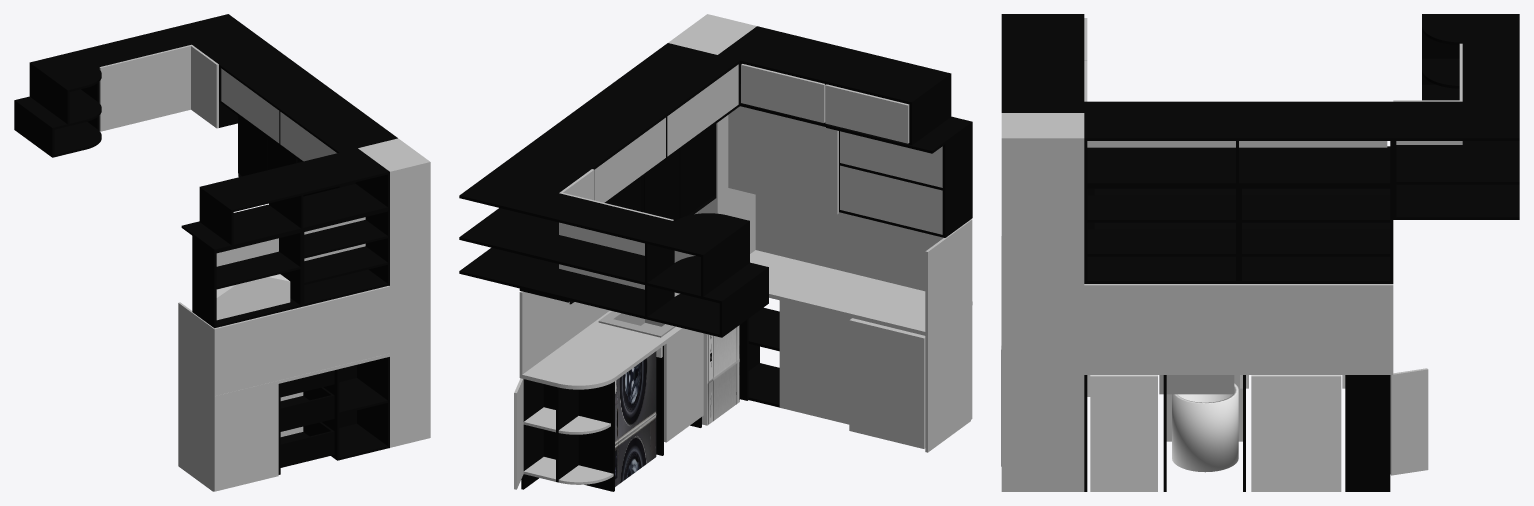
Rendered from proto_kitchen.fbx.
The picture shows the model from 3 angles, left to right: view 1: azimuth 30°, elevation 25°; view 2: azimuth 150°, elevation 25°; view 3: azimuth 270°, elevation 25°; orthographic projection. The views are drawn at different scales.
Visible parts, largest first — view 1: Cube.095, Cube.104, Cube.036, Cube.106, Cube.115, Cube.102, Cube.076, Cube.077, Cube.113, Cube.096, Cube.170, Cube.167 (+35 smaller); view 2: Cube.036, Cube.104, Cube.115, Cube.001, Cube.037, L Worktop_beveled.001, Cube.102, Cube.268, Cube.267, Cube.131, Cube.150, Cube.130 (+44 smaller); view 3: Cube.095, Cube.105, Cube.036, Cube.038, Washing Machine.001, Dishwasher.001, Bin.001, Cube.102, Cube.288, Cube.096, Cube.098, Cube.113 (+22 smaller).
Boxes of the visible parts, x1,y1,x2,y2 form: Cube.095: [358, 138, 430, 447]; Cube.104: [213, 286, 389, 395]; Cube.036: [219, 50, 397, 152]; Cube.106: [213, 384, 278, 491]; Cube.115: [178, 302, 213, 491]; Cube.102: [32, 28, 191, 78]; Cube.076: [99, 56, 145, 131]; Cube.077: [145, 45, 190, 120]; Cube.113: [271, 148, 387, 194]; Cube.096: [170, 14, 276, 63]; Cube.170: [181, 204, 301, 251]; Cube.167: [303, 184, 387, 229]; Cube.036: [520, 43, 739, 169]; Cube.104: [755, 194, 972, 302]; Cube.115: [925, 220, 970, 452]; Cube.001: [849, 318, 925, 448]; Cube.037: [750, 250, 972, 335]; L Worktop_beveled.001: [519, 310, 685, 389]; Cube.102: [531, 193, 727, 256]; Cube.268: [531, 269, 749, 337]; Cube.267: [531, 235, 749, 303]; Cube.131: [783, 116, 838, 214]; Cube.150: [840, 165, 942, 234]; Cube.130: [728, 106, 782, 200]; Cube.095: [1001, 113, 1084, 491]; Cube.105: [1084, 284, 1393, 370]; Cube.036: [1084, 101, 1393, 140]; Cube.038: [1084, 146, 1393, 185]; Washing Machine.001: [1251, 375, 1341, 491]; Dishwasher.001: [1090, 375, 1157, 491]; Bin.001: [1172, 383, 1238, 472]; Cube.102: [1462, 15, 1519, 101]; Cube.288: [1348, 375, 1390, 491]; Cube.096: [1396, 101, 1519, 140]; Cube.098: [1396, 145, 1519, 184]; Cube.113: [1001, 58, 1084, 111].
Bounding box in the file's own units: 213 × 262 × 345.
